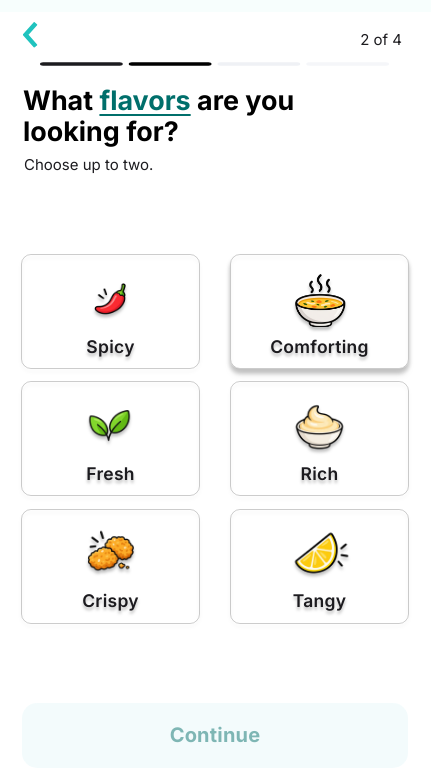
Test: mobile acceptance regressions › keeps Continue after the flexible options and keyboard accessible on /discover/flavor
This screenshot has width=431, height=780.
Click the button "Spicy" at {"x": 110, "y": 311}, box [21, 254, 200, 369]
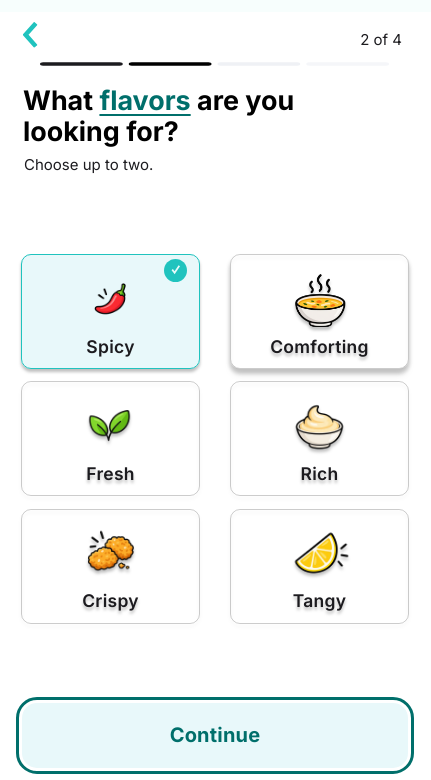
Result: the button with class "discovery-cta" is enabled at [22, 703, 408, 768]
